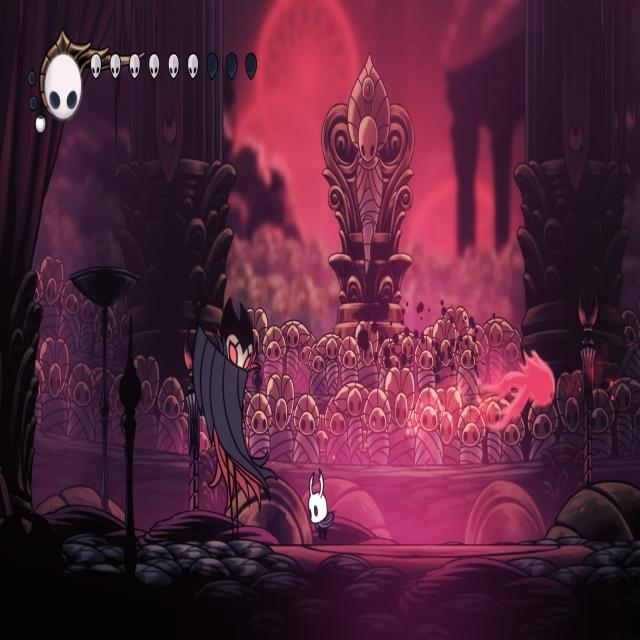Fire Bat: (487, 354, 555, 435)
Grimm: (186, 289, 277, 546)
Player: (306, 465, 336, 545)
